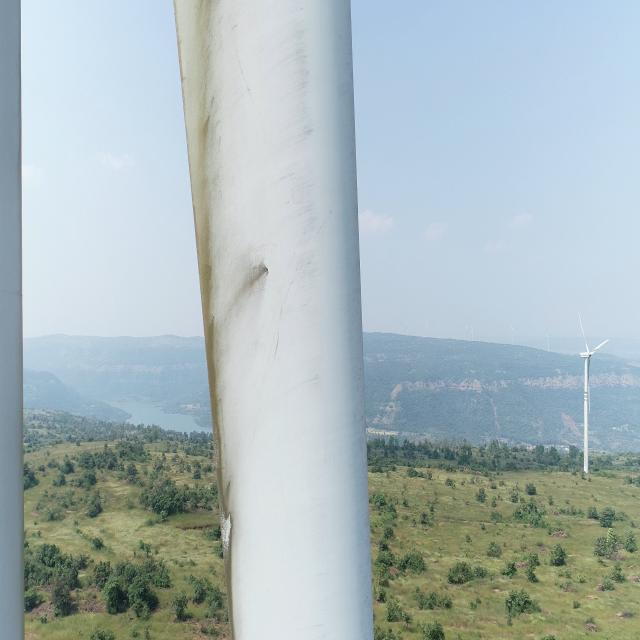Dirt: (178, 0, 271, 639)
